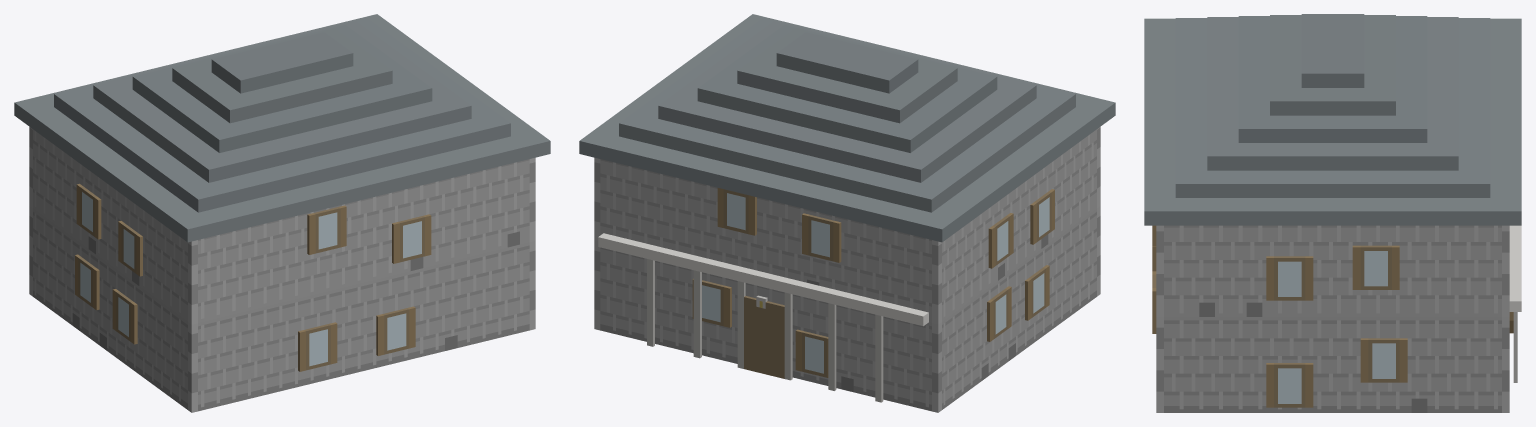
Rendered from biblioteca_publica_02.glb.
3 views of the same model, side by side, from view 1: azimuth 30°, elevation 25°; view 2: azimuth 150°, elevation 25°; view 3: azimuth 270°, elevation 25° (orthographic). The views are drawn at different scales.
Parts seen in each view (by area): view 1: biblioteca_publica_02; view 2: biblioteca_publica_02; view 3: biblioteca_publica_02.
Boxes of the visible parts, bbox=[...] form: biblioteca_publica_02: bbox=[14, 14, 550, 412]; biblioteca_publica_02: bbox=[579, 14, 1115, 412]; biblioteca_publica_02: bbox=[1144, 14, 1521, 412].
Size of the model in its own units: 11.6 by 7.8 by 9.6.
